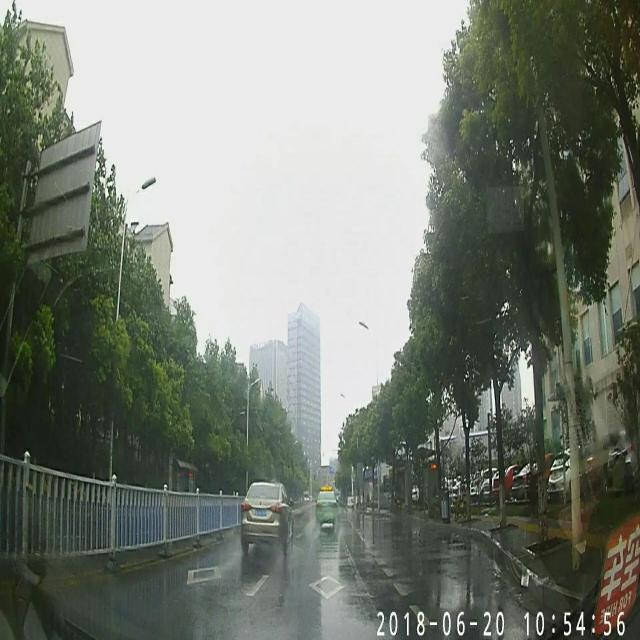car: (240, 482, 294, 558), (314, 486, 340, 530)
